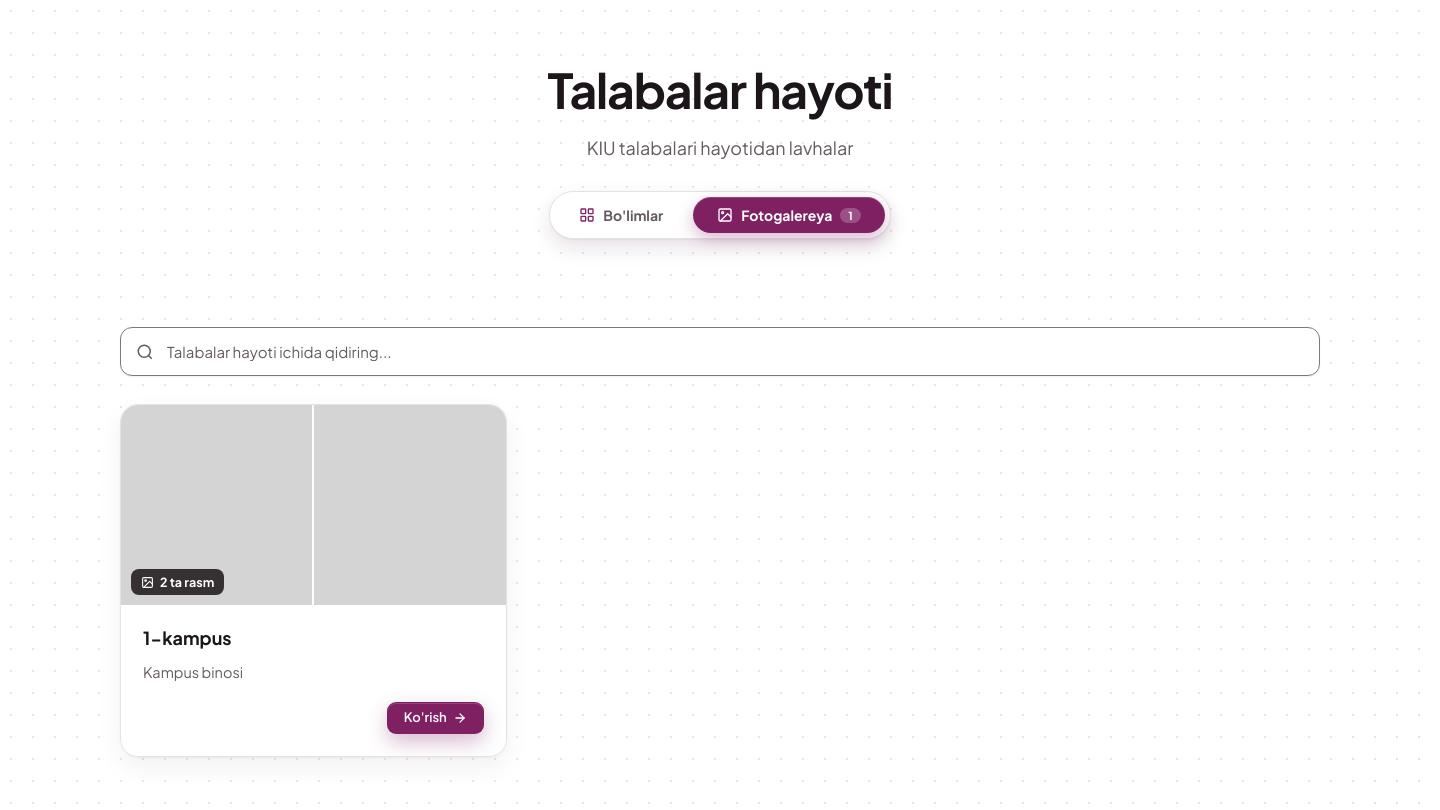
Gallery (public): fotogalereya › lightbox aylanma: oxirgi rasmdan keyingisi — birinchi, birinchidan oldingisi — oxirgi
Expected: the heading "1-kampus" is shown, [143,626,232,649]
Click the element showing "2 ta rasm 1-kampus Kampus binosi Ko'rish".
click(313, 581)  # box [120,404,507,757]
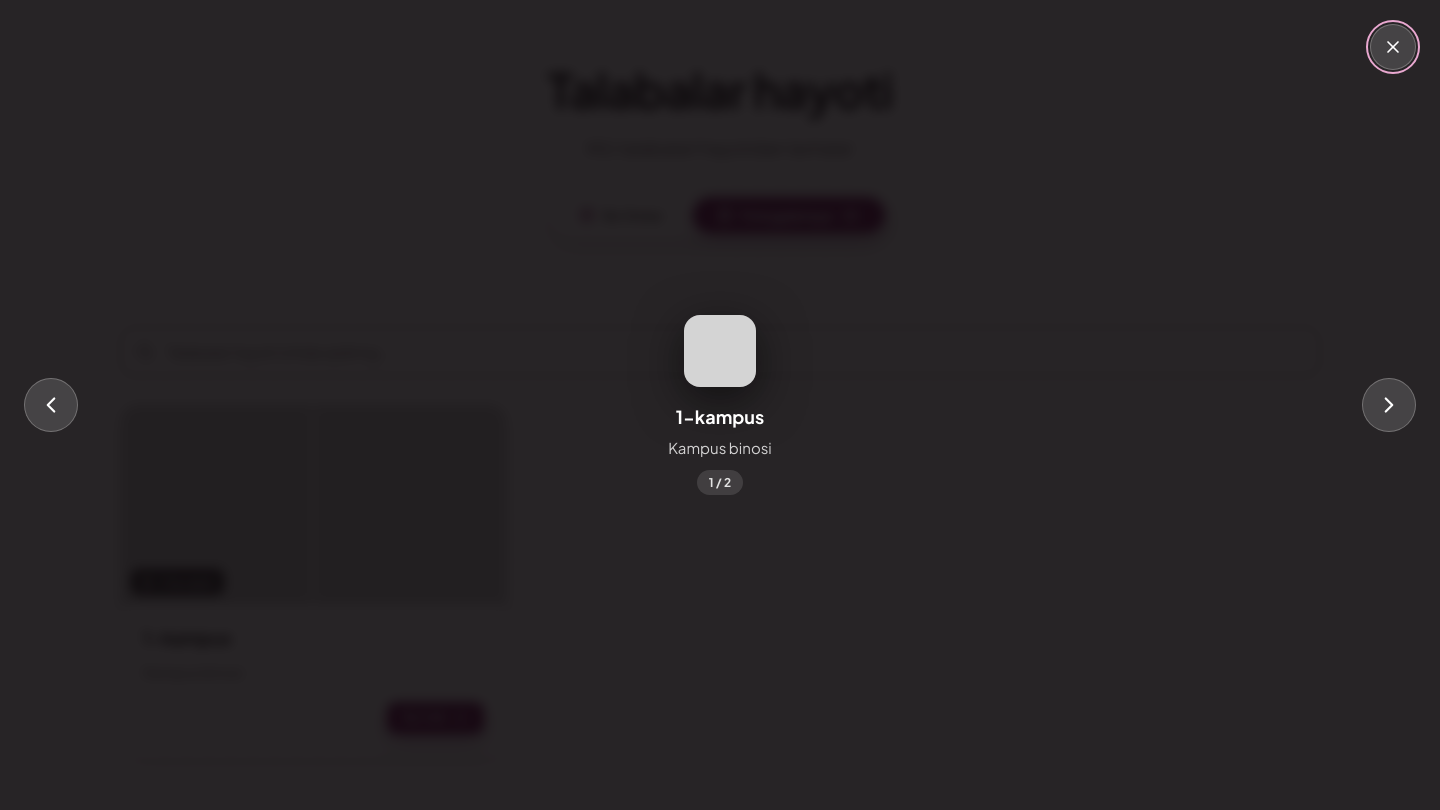
Click the button named "Oldingi rasm".
click(51, 405)  # box [24,378,78,432]
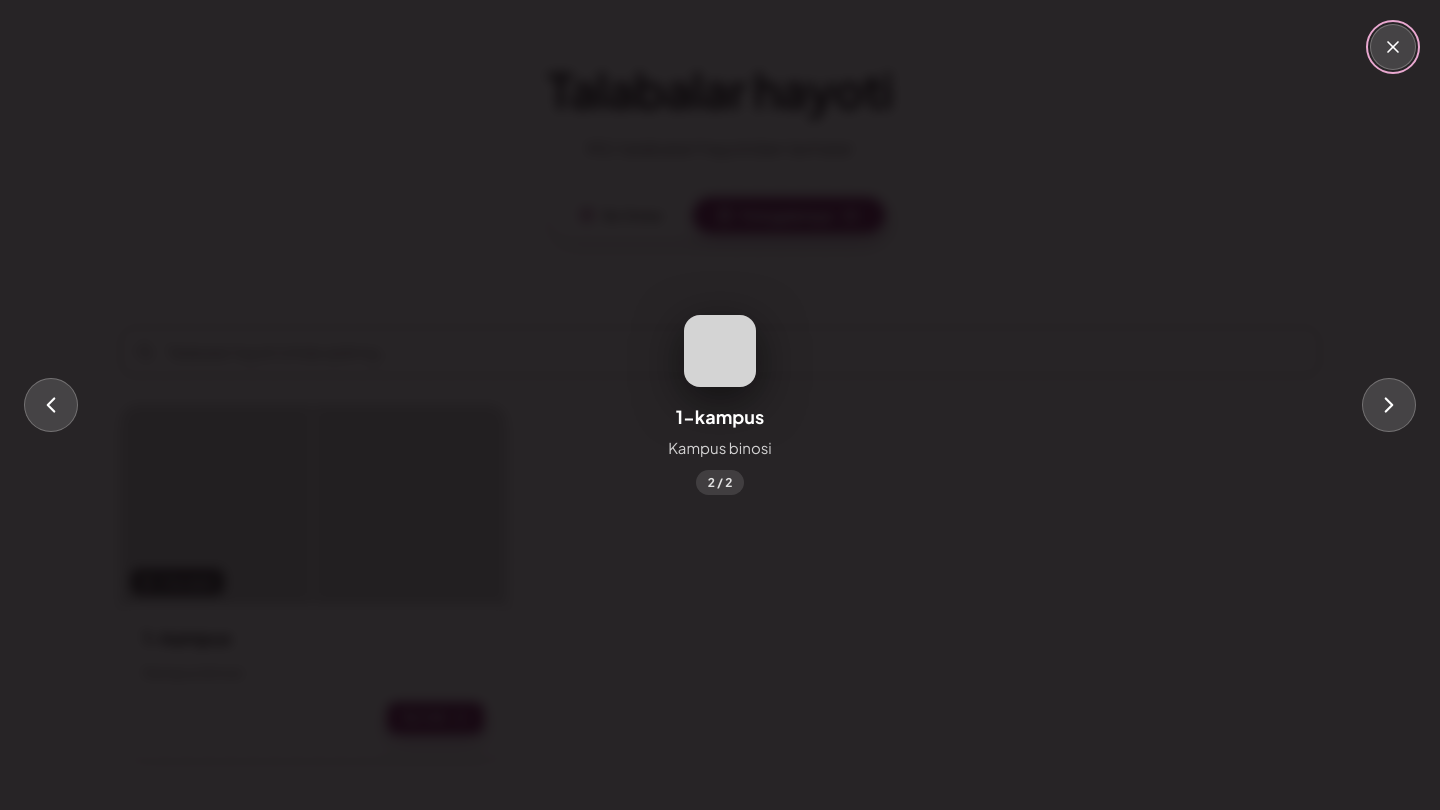
Expected: the text "2 / 2" is shown, [696,470,744,495]
Click the button named "Keyingi rasm".
click(1389, 405)  # box [1362,378,1416,432]
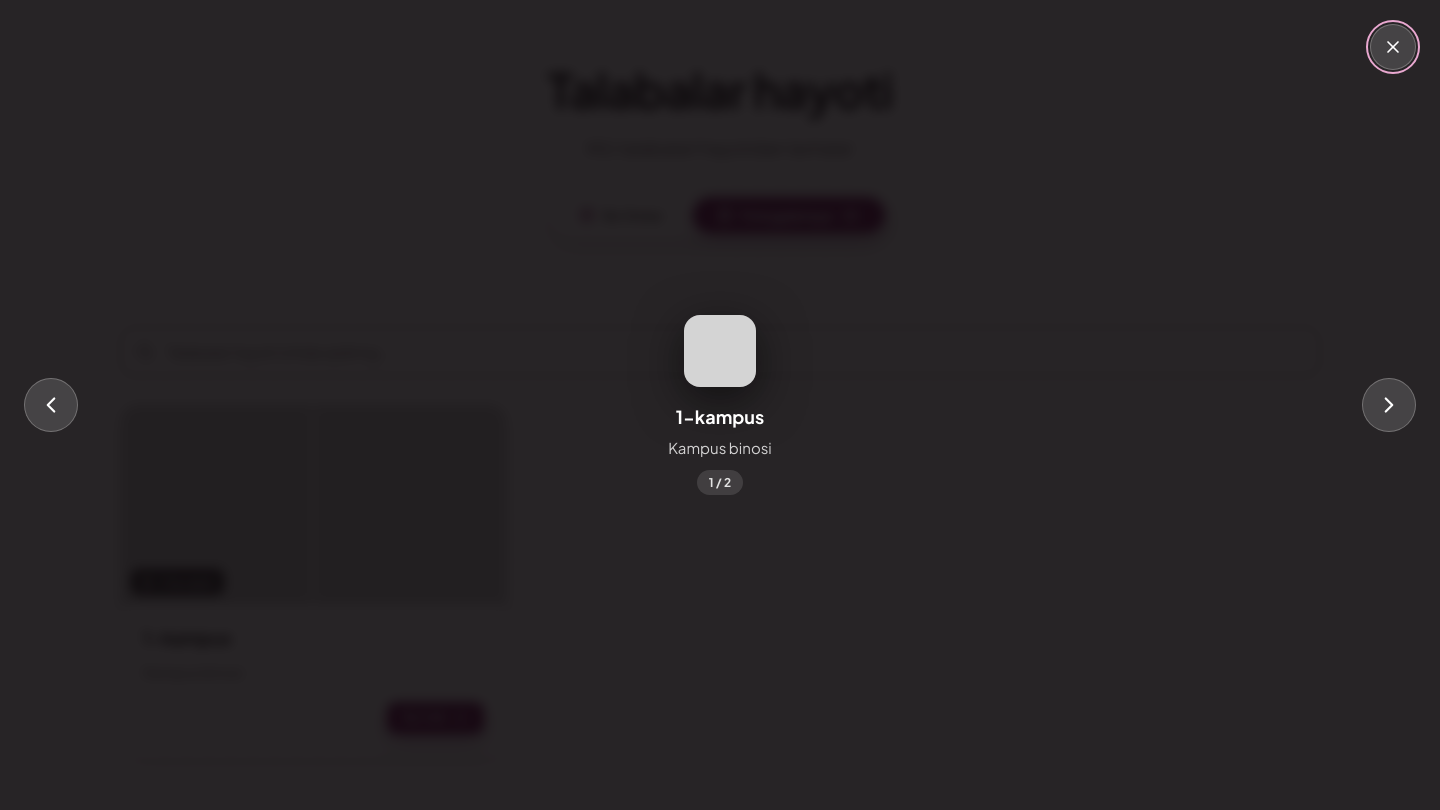
Expected: the text "1 / 2" is shown, [697,470,743,495]
